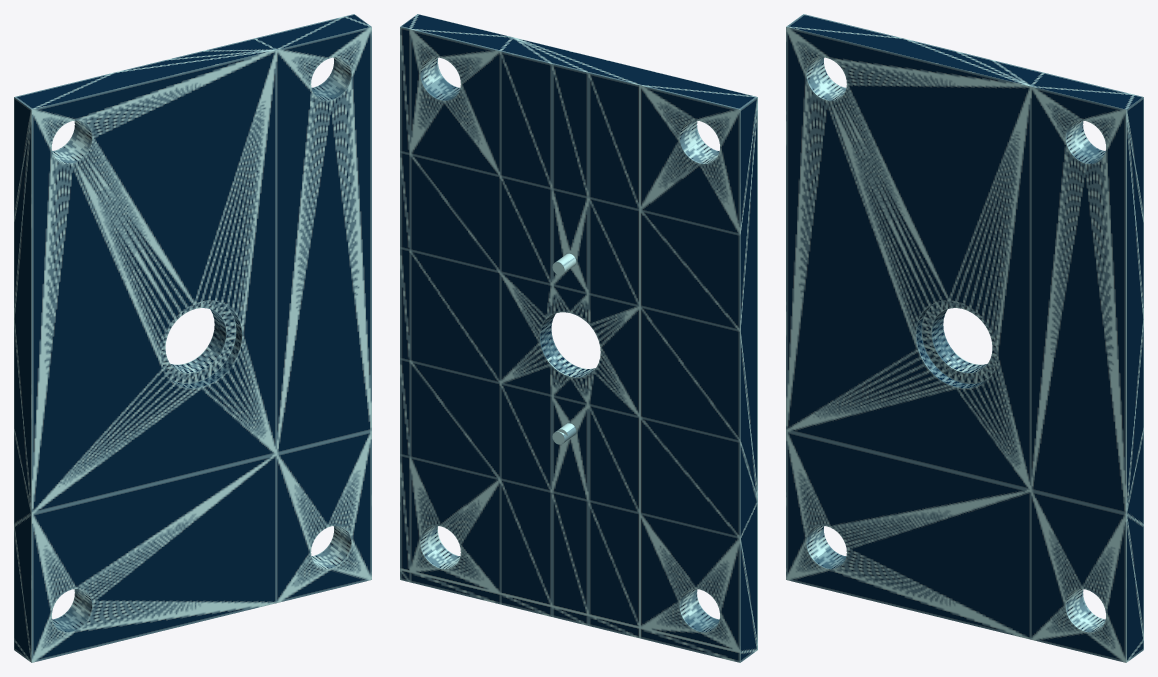
The model's file is Mold4-Top clamping plate-M.glb.
The picture shows the model from 3 angles, left to right: view 1: azimuth 30°, elevation 25°; view 2: azimuth 150°, elevation 25°; view 3: azimuth 330°, elevation 25°; orthographic projection.
Parts seen in each view (by area): view 1: GERGTGQ - ens-1 PLAQUETTE-1; view 2: GERGTGQ - ens-1 PLAQUETTE-1; view 3: GERGTGQ - ens-1 PLAQUETTE-1.
Boxes of the visible parts, box(x1,y1,x2,y2) form: GERGTGQ - ens-1 PLAQUETTE-1: box(14, 14, 371, 662); GERGTGQ - ens-1 PLAQUETTE-1: box(400, 14, 757, 662); GERGTGQ - ens-1 PLAQUETTE-1: box(786, 14, 1143, 662).
Size of the model in its own units: 5.98 by 9.29 by 0.8902.
1 material, 1 textured.
